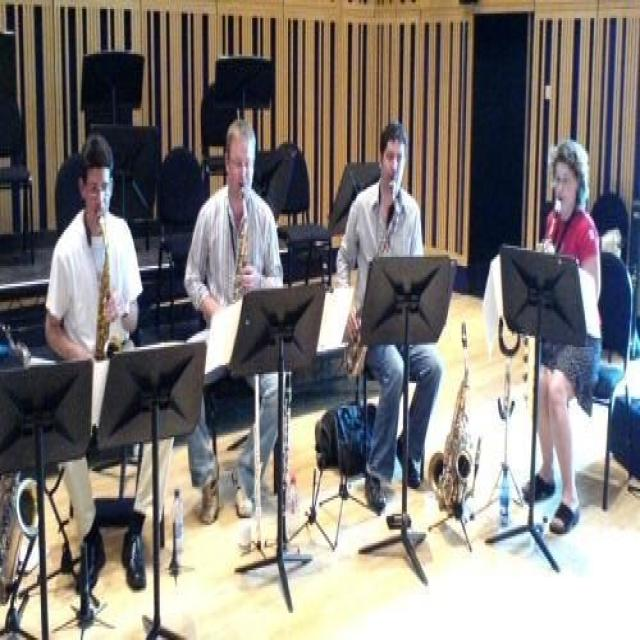saxophone: (344, 180, 402, 380), (432, 321, 477, 517), (94, 212, 122, 362), (231, 182, 254, 298)
